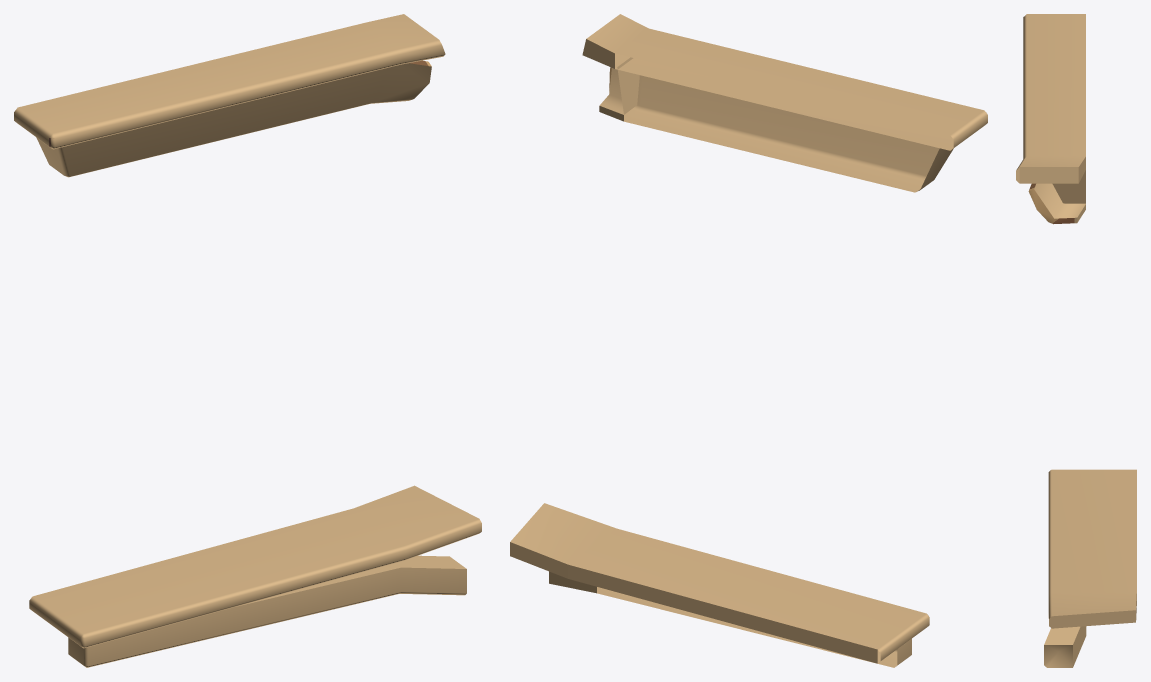
File: DBK_WinWide_Trim_E_Side.fbx
3 views of the same model, side by side, from view 1: azimuth 30°, elevation 25°; view 2: azimuth 150°, elevation 25°; view 3: azimuth 270°, elevation 25° (orthographic). The views are drawn at different scales.
Parts seen in each view (by area): view 1: DBK_WinWide_Trim_E_Side; view 2: DBK_WinWide_Trim_E_Side; view 3: DBK_WinWide_Trim_E_Side.
Boxes of the visible parts, bbox=[...] form: DBK_WinWide_Trim_E_Side: bbox=[14, 14, 481, 667]; DBK_WinWide_Trim_E_Side: bbox=[510, 14, 987, 667]; DBK_WinWide_Trim_E_Side: bbox=[1016, 14, 1136, 667].
Size of the model in its own units: 129 by 160 by 36.3.
